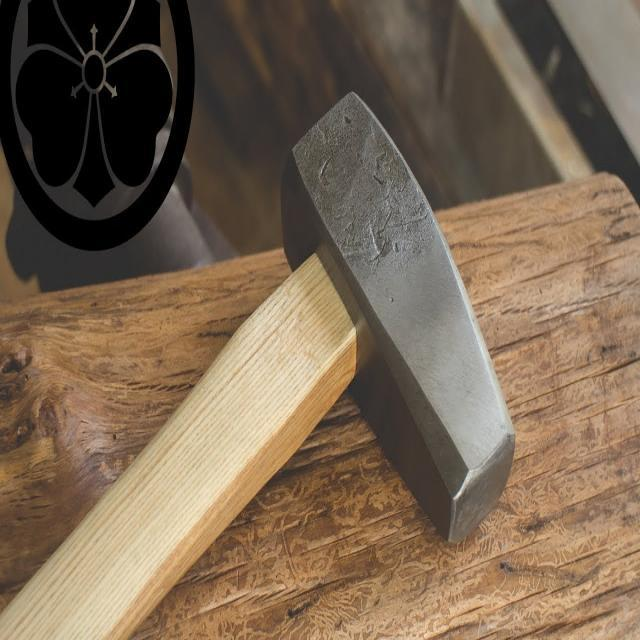hammer: (0, 84, 522, 639)
